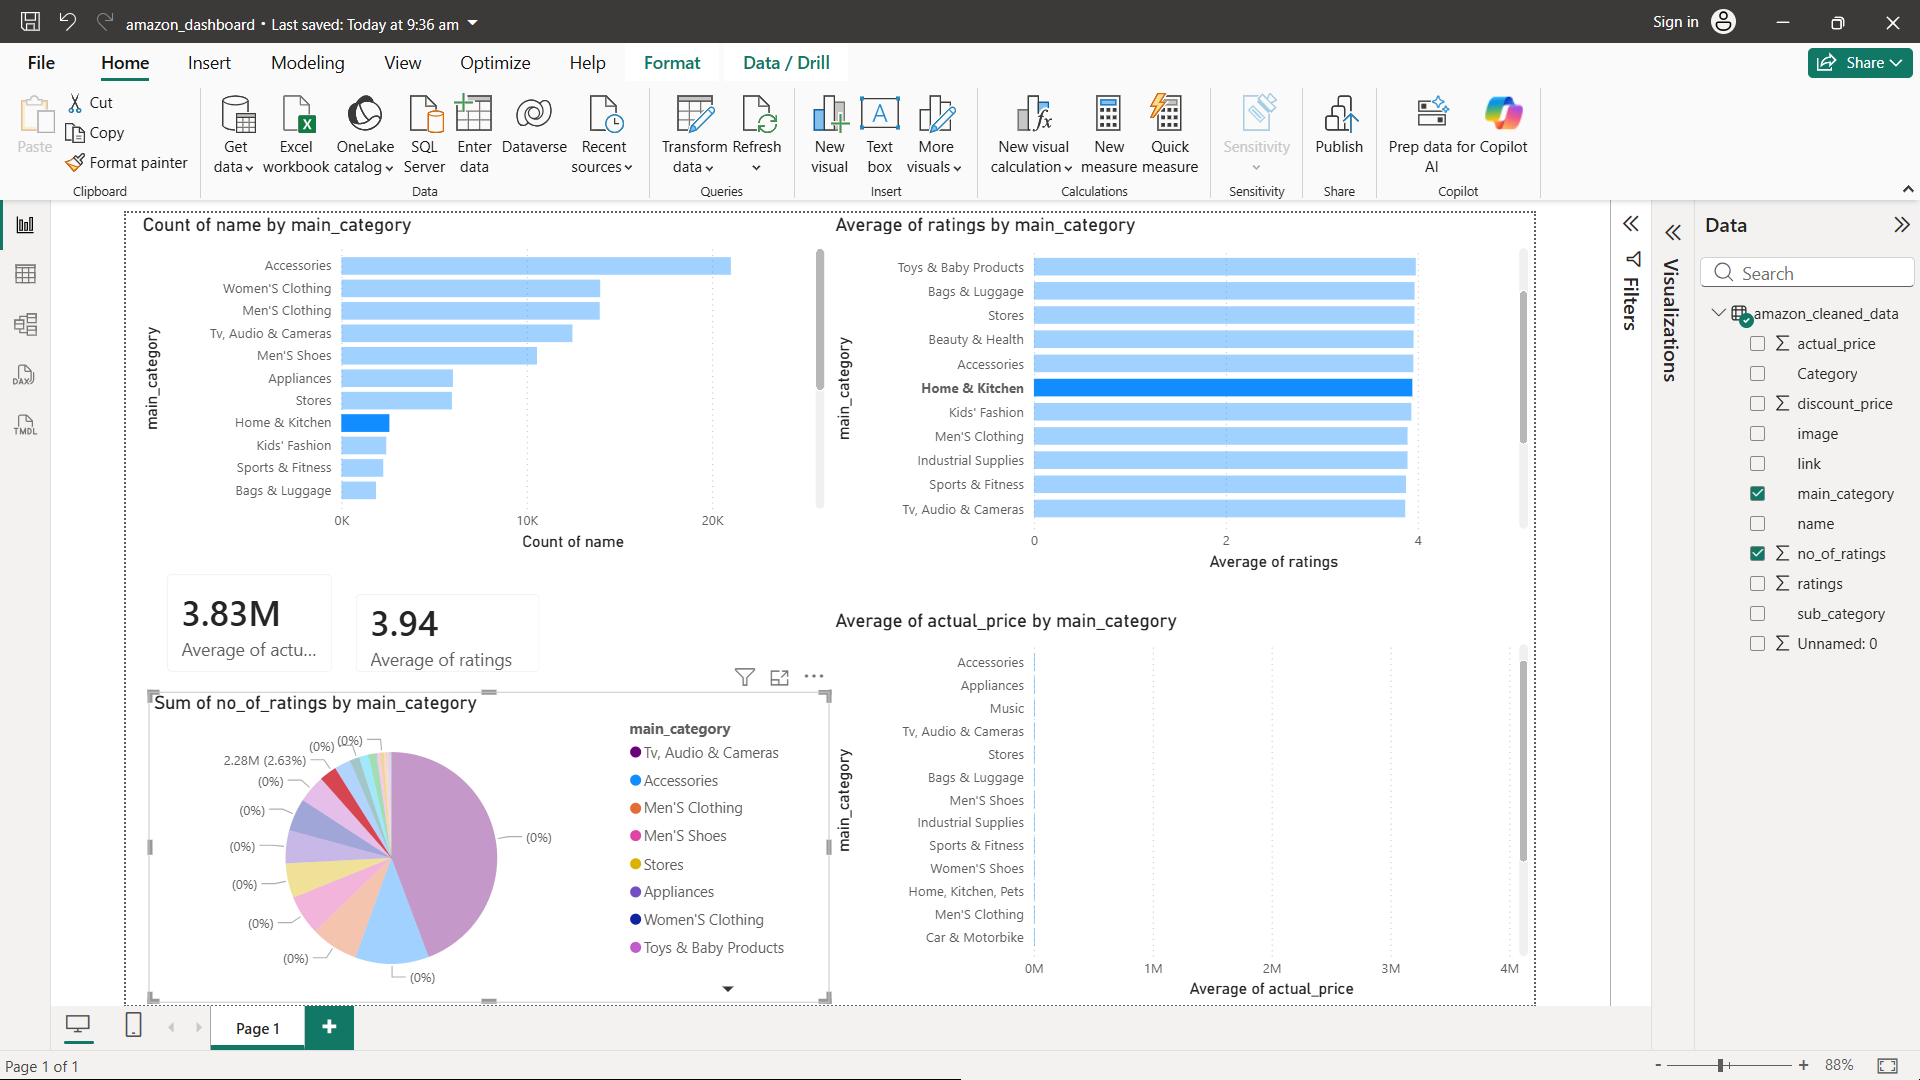

The dashboard page shown, as its layout file describes it:
{"tool":"powerbi","page":{"name":"Page 1","canvas":[1280,720],"ordinal":0},"visuals":[{"type":"clusteredBarChart","fields":{"Category":["amazon_cleaned_data.main_category"],"Y":["CountNonNull(amazon_cleaned_data.name)"]},"box":[10,0,630,311.7],"z":0},{"type":"cardVisual","fields":{"Data":["Avg(amazon_cleaned_data.ratings)"]},"box":[191.8,329.6,201,105.1],"z":2},{"type":"clusteredBarChart","fields":{"Category":["amazon_cleaned_data.main_category"],"Y":["Avg(amazon_cleaned_data.ratings)"]},"box":[640,0,640,330],"z":3},{"type":"cardVisual","fields":{"Data":["Avg(amazon_cleaned_data.actual_price)"]},"box":[20.4,311.2,184.7,123.5],"z":4},{"type":"clusteredBarChart","fields":{"Y":["Avg(amazon_cleaned_data.actual_price)"],"Category":["amazon_cleaned_data.main_category"]},"box":[640,360,640,358.3],"z":5},{"type":"pieChart","fields":{"Category":["amazon_cleaned_data.main_category"],"Y":["Sum(amazon_cleaned_data.no_of_ratings)"]},"box":[20,435,620,283.3],"z":6}]}

Visuals, with their boxes on the page's 1280x720 design canvas (x1, y1, x2, y2). These are canvas units, not pixel positions in the 1920x1080 screenshot, which may show the page scaled, cropped or inside an application window:
clusteredBarChart - amazon_cleaned_data.main_category x CountNonNull(amazon_cleaned_data.name): bbox(10, 0, 640, 312)
cardVisual - Avg(amazon_cleaned_data.ratings): bbox(192, 330, 393, 435)
clusteredBarChart - amazon_cleaned_data.main_category x Avg(amazon_cleaned_data.ratings): bbox(640, 0, 1280, 330)
cardVisual - Avg(amazon_cleaned_data.actual_price): bbox(20, 311, 205, 435)
clusteredBarChart - Avg(amazon_cleaned_data.actual_price) x amazon_cleaned_data.main_category: bbox(640, 360, 1280, 718)
pieChart - amazon_cleaned_data.main_category x Sum(amazon_cleaned_data.no_of_ratings): bbox(20, 435, 640, 718)
